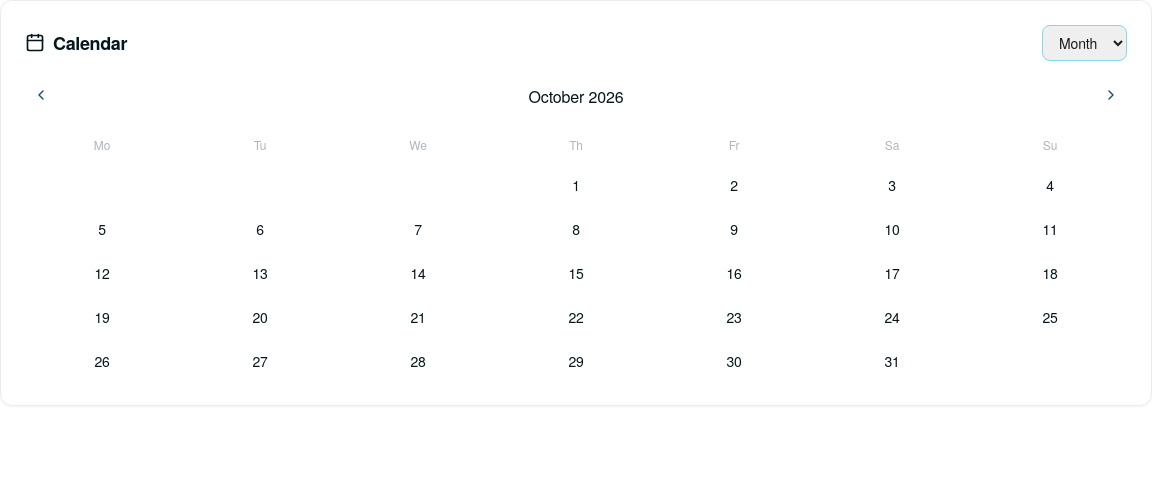
DashboardCalendar › shows selected date detail when clicking a day in month view
// Click on day 15
Click the button "15": x=576, y=273 [499, 253, 653, 293]
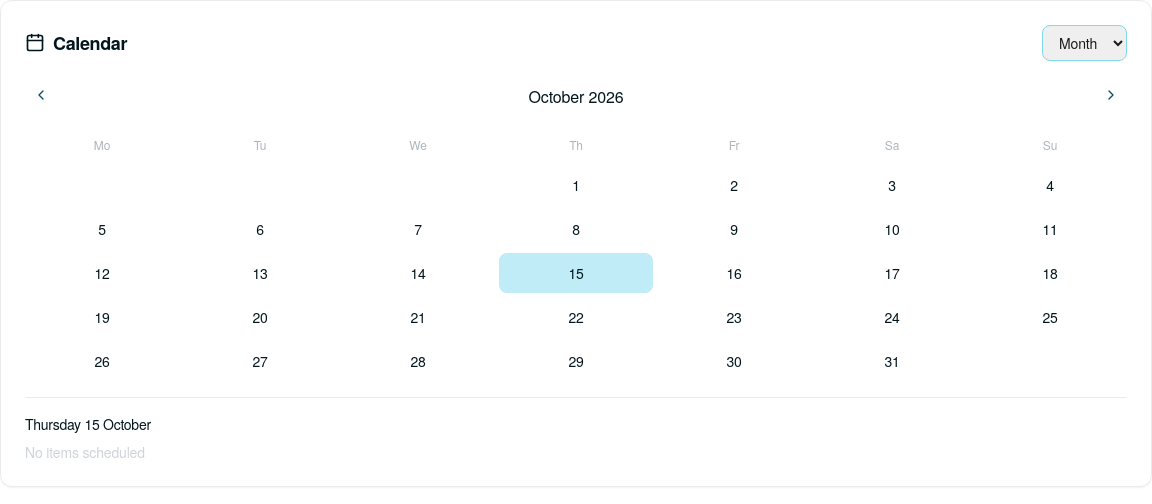
Now the text "No items scheduled" is shown, box [25, 442, 145, 462]
